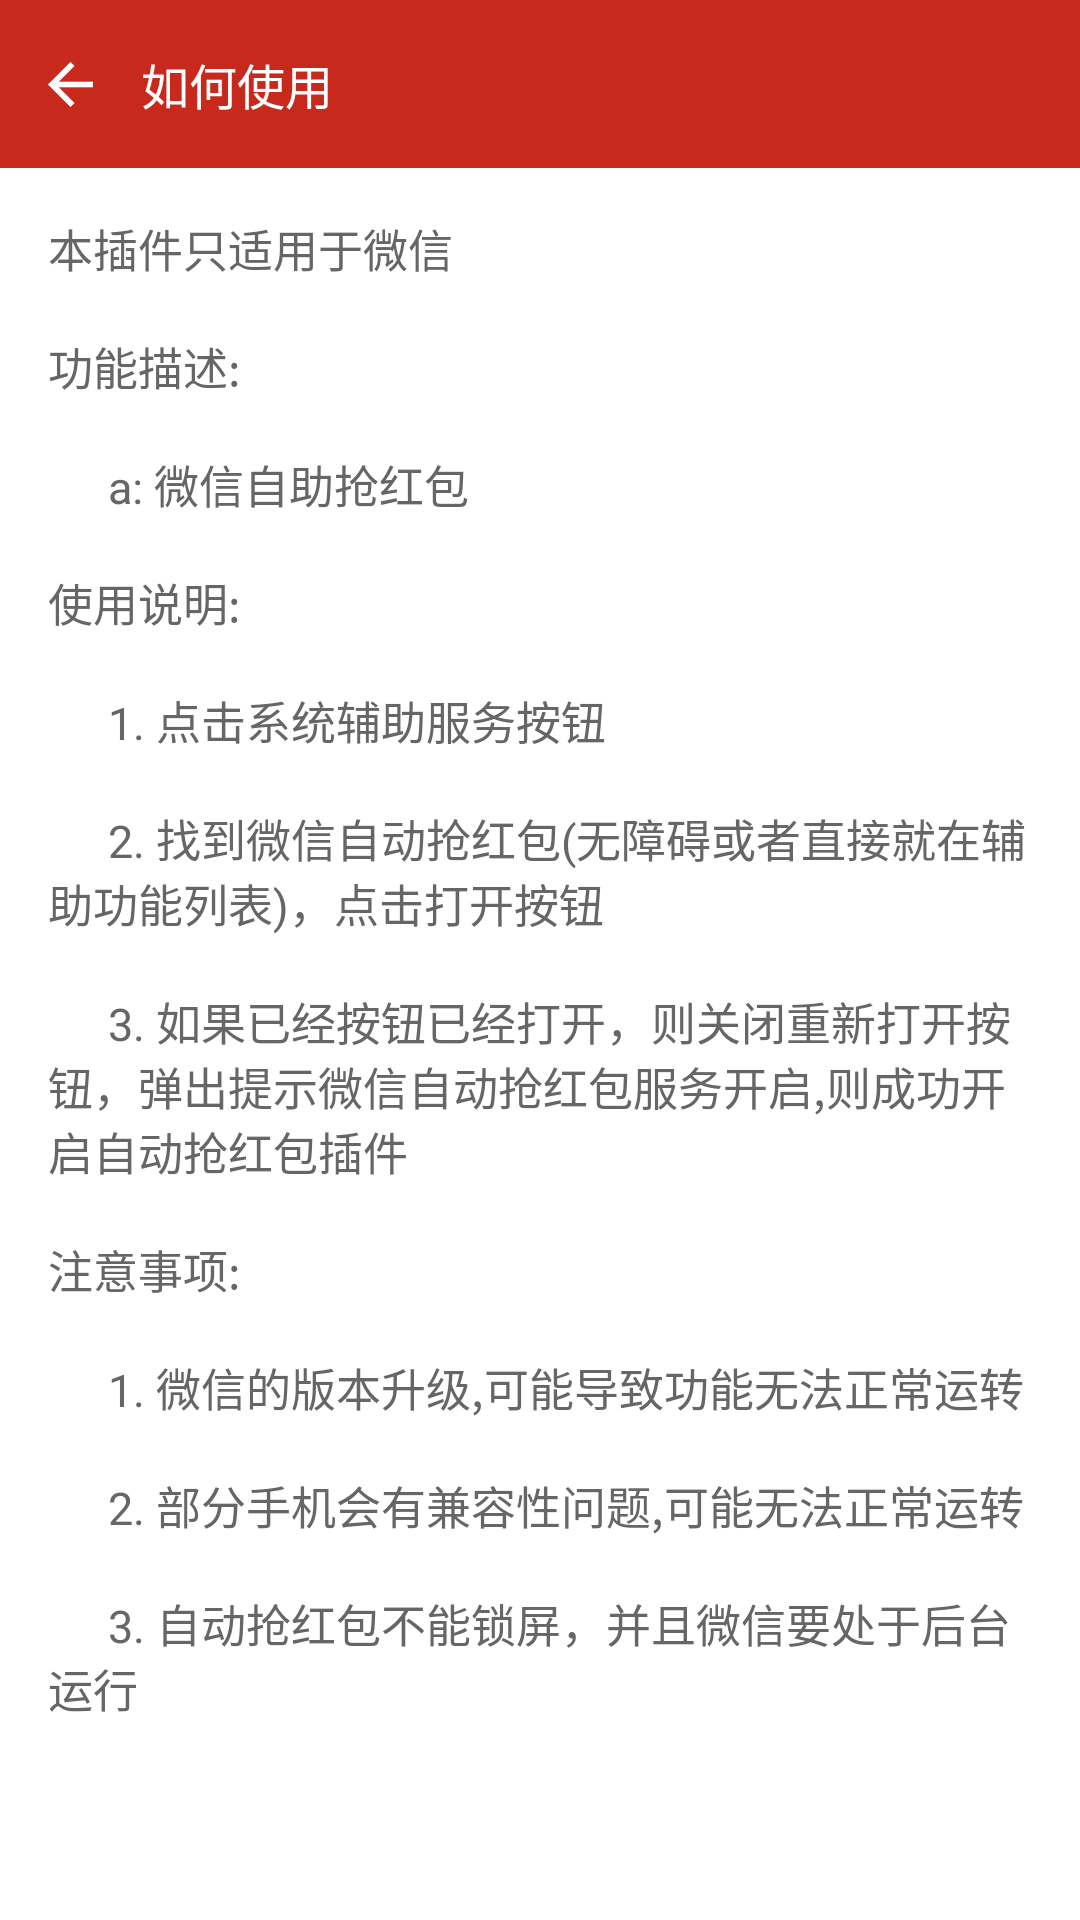

Where icons sit on this 1080px×1920px app screen, as (x1, y1, x2, y2):
back: (48, 62, 93, 107)
